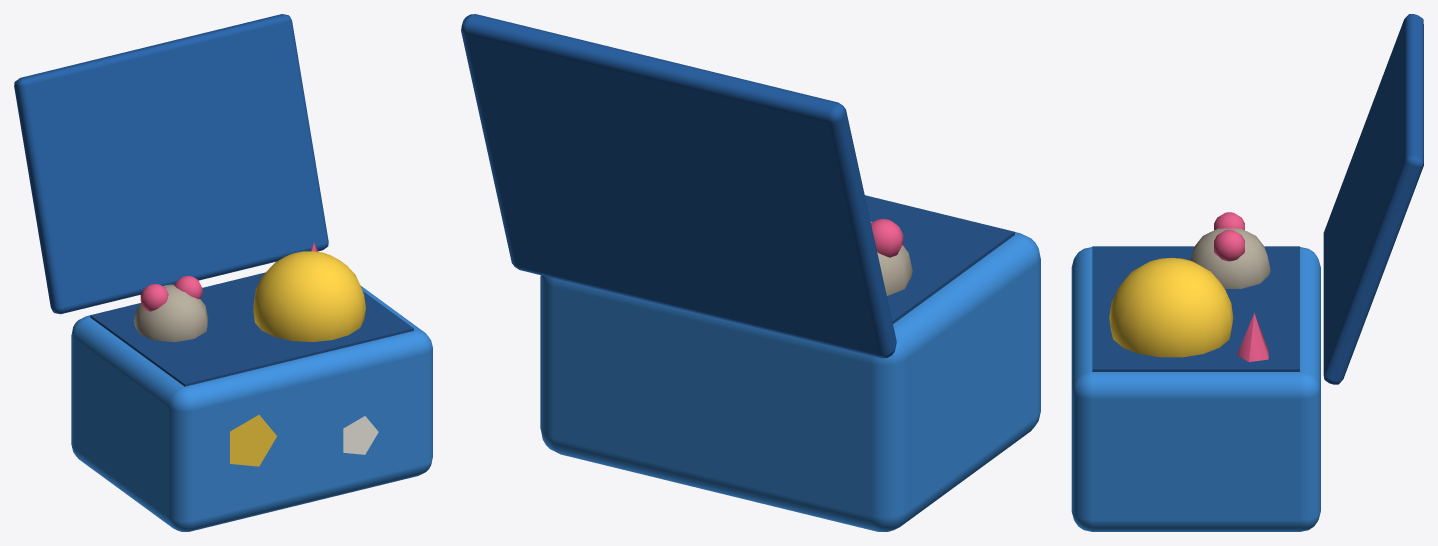
Rendered from yarn-toybox.glb.
The picture shows the model from 3 angles, left to right: view 1: azimuth 30°, elevation 25°; view 2: azimuth 150°, elevation 25°; view 3: azimuth 270°, elevation 25°; orthographic projection. The views are drawn at different scales.
Bounding box in the file's own units: 0.84 × 1.02 × 0.8538.
